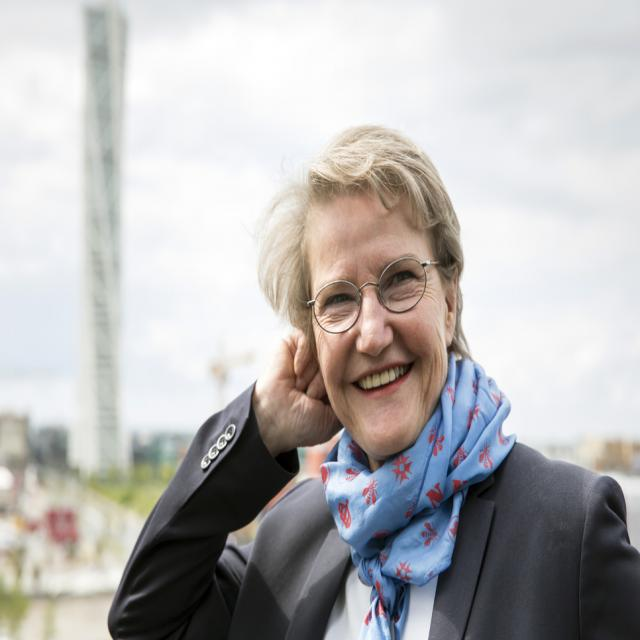Glasses: (304, 250, 454, 327)
